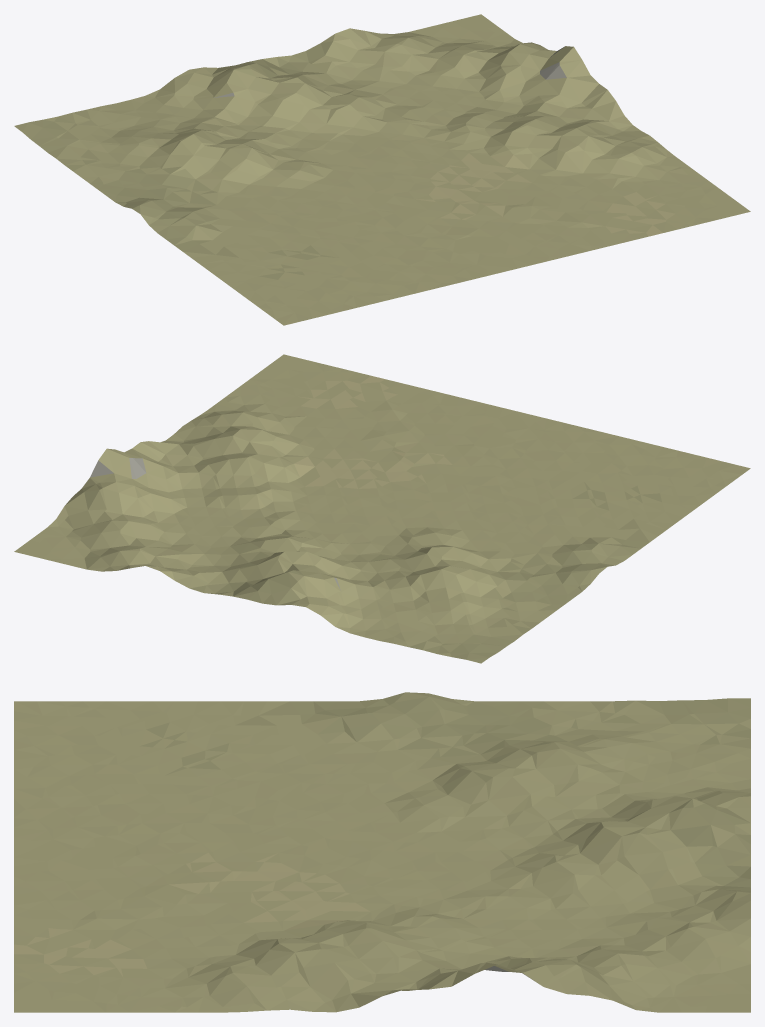
Rendered from Ground_0_3.glb.
3 views of the same model, one above another, from view 1: azimuth 30°, elevation 25°; view 2: azimuth 150°, elevation 25°; view 3: azimuth 270°, elevation 25° (orthographic). The views are drawn at different scales.
Parts seen in each view (by area): view 1: Ground_0_3; view 2: Ground_0_3; view 3: Ground_0_3.
Part boxes in pixels (x1,y1,x2,y2): Ground_0_3: (14,14,750,325); Ground_0_3: (14,354,750,663); Ground_0_3: (14,692,750,1012).
Size of the model in its own units: 768 by 55.49 by 768.
